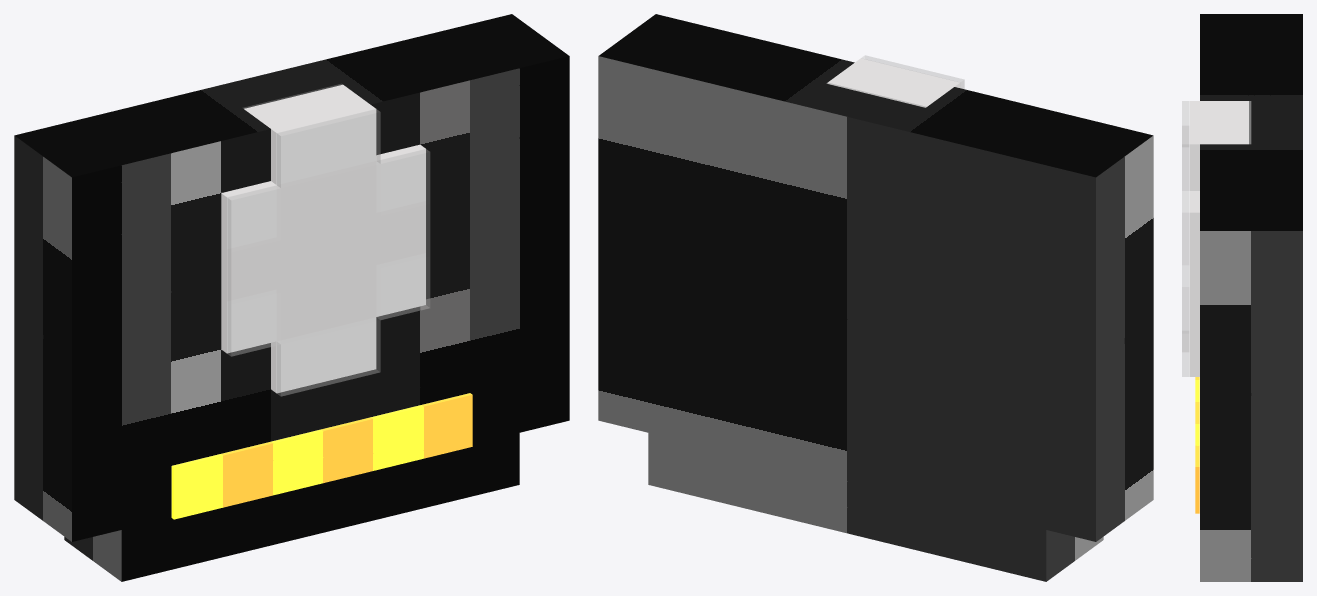
Rendered from mounted_flash_flash_white.glb.
3 views of the same model, side by side, from view 1: azimuth 30°, elevation 25°; view 2: azimuth 150°, elevation 25°; view 3: azimuth 270°, elevation 25° (orthographic). The views are drawn at different scales.
Visible parts, largest first — view 1: Continuous_Wall_Housing, Replaceable_Flashbulb, Closed_Glass_Lens, Status_Indicator; view 2: Continuous_Wall_Housing, Replaceable_Flashbulb; view 3: Continuous_Wall_Housing, Replaceable_Flashbulb, Closed_Glass_Lens, Status_Indicator.
Boxes of the visible parts, left/top/right/bottom form: Continuous_Wall_Housing: left=14, top=14, right=569, bottom=581; Replaceable_Flashbulb: left=221, top=84, right=425, bottom=393; Closed_Glass_Lens: left=227, top=109, right=429, bottom=396; Status_Indicator: left=171, top=393, right=472, bottom=519; Continuous_Wall_Housing: left=598, top=14, right=1153, bottom=581; Replaceable_Flashbulb: left=827, top=58, right=960, bottom=107; Continuous_Wall_Housing: left=1200, top=14, right=1302, bottom=581; Replaceable_Flashbulb: left=1189, top=101, right=1248, bottom=376; Closed_Glass_Lens: left=1182, top=101, right=1189, bottom=376; Status_Indicator: left=1195, top=377, right=1199, bottom=513.
Size of the model in its own units: 0.2812 by 0.225 by 0.0661.
4 materials, 4 textured.
